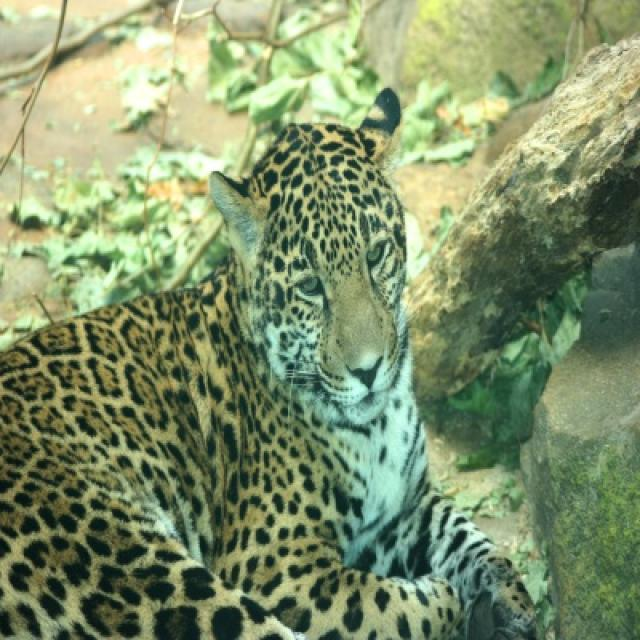Jaguar: (0, 90, 536, 638)
